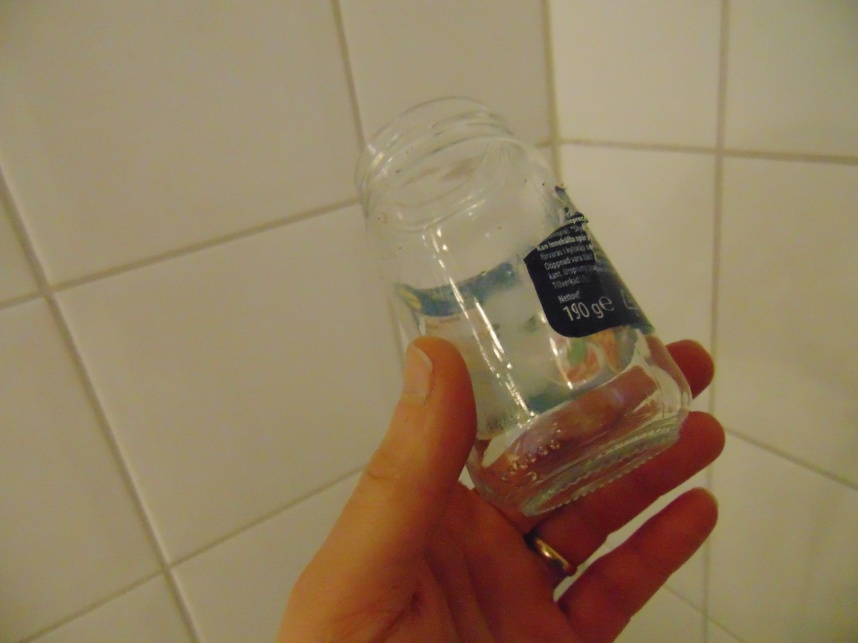glass_bottle: (355, 95, 693, 522)
